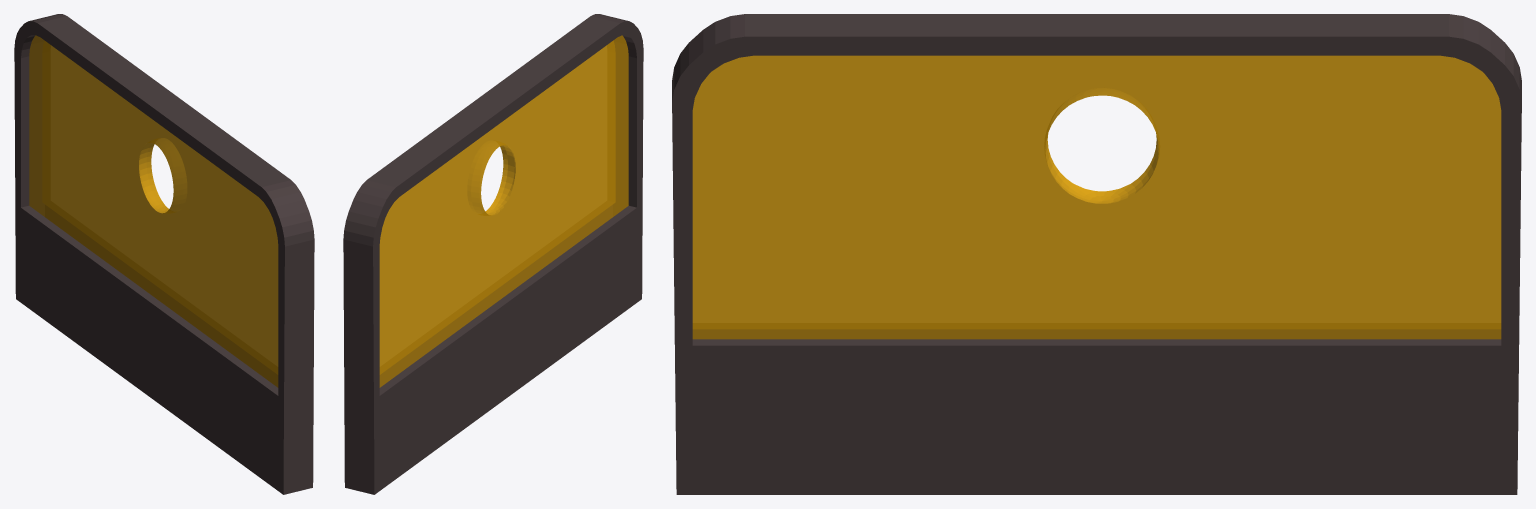
File: yellow.fbx
3 views of the same model, side by side, from view 1: azimuth 30°, elevation 25°; view 2: azimuth 150°, elevation 25°; view 3: azimuth 270°, elevation 25° (orthographic). The views are drawn at different scales.
Parts seen in each view (by area): view 1: Cube.001; view 2: Cube.001; view 3: Cube.001.
Part boxes in pixels (x1=…): Cube.001: x1=14, y1=14, x2=314, y2=494; Cube.001: x1=343, y1=14, x2=643, y2=494; Cube.001: x1=672, y1=14, x2=1521, y2=494.
Size of the model in its own units: 88.19 by 830 by 1395.
